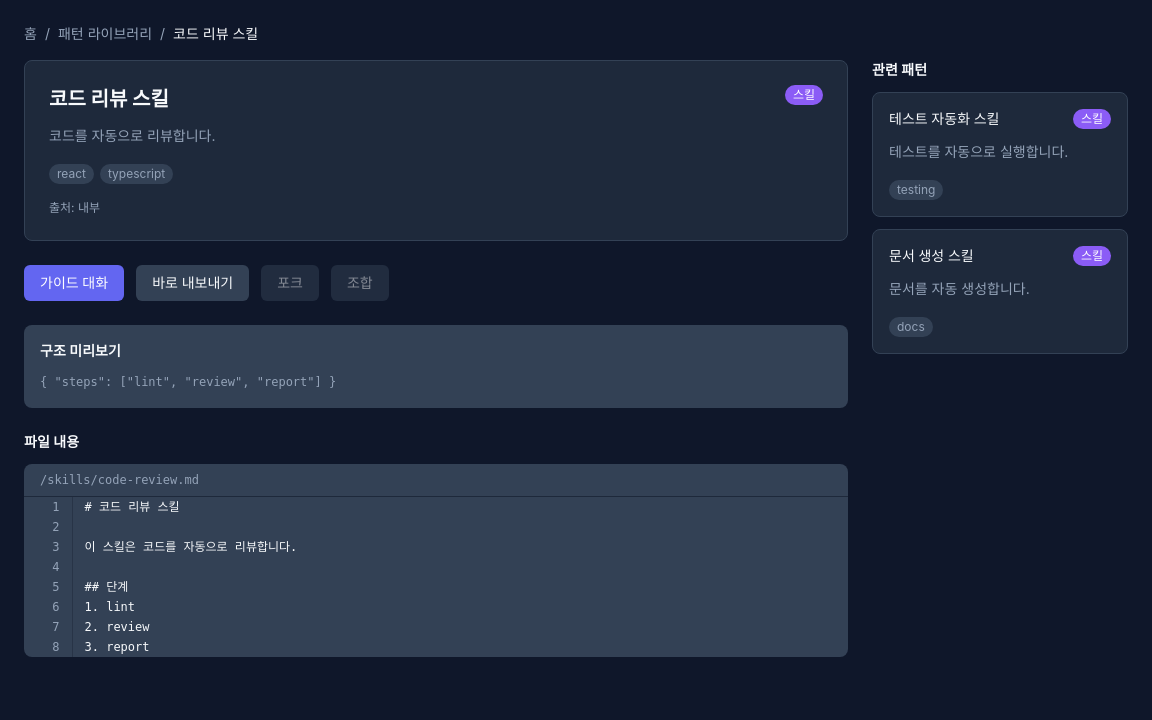
PatternDetail Integration › 시나리오 3: 바로 내보내기 › "바로 내보내기" 성공 시 성공 Toast가 표시된다
Click the button "바로 내보내기".
click(193, 283)  # box left=136, top=265, right=249, bottom=301
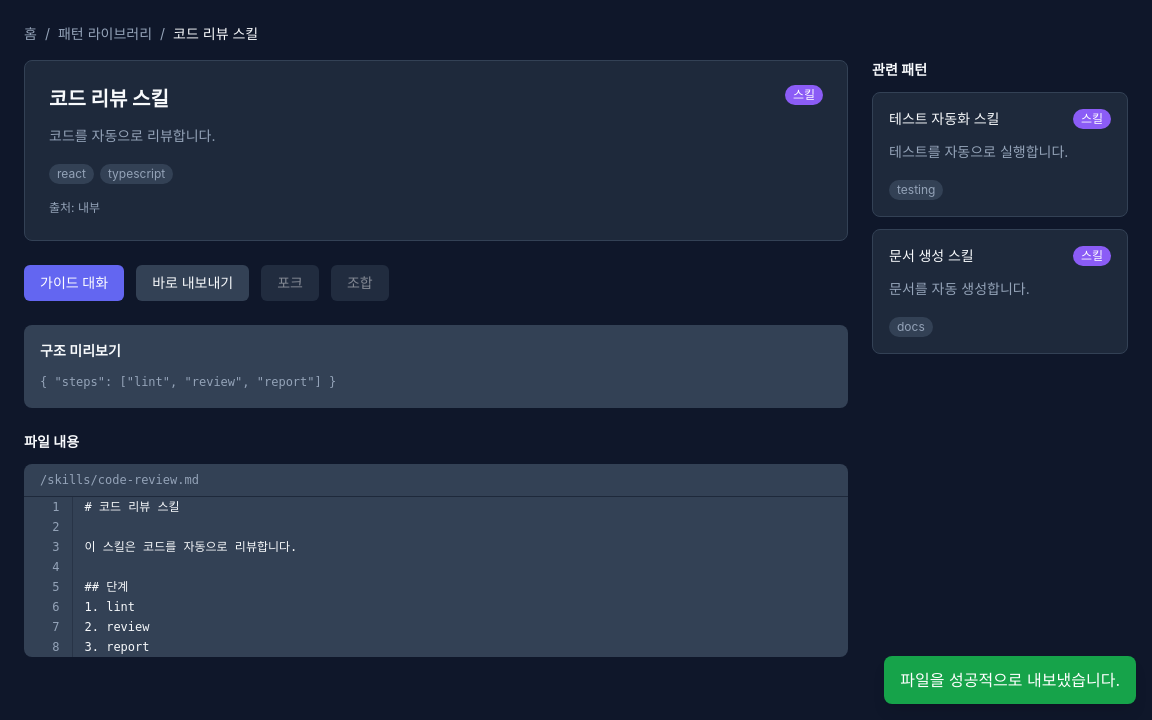
expect the message "파일을 성공적으로 내보냈습니다." is shown: met, box left=884, top=656, right=1136, bottom=704
